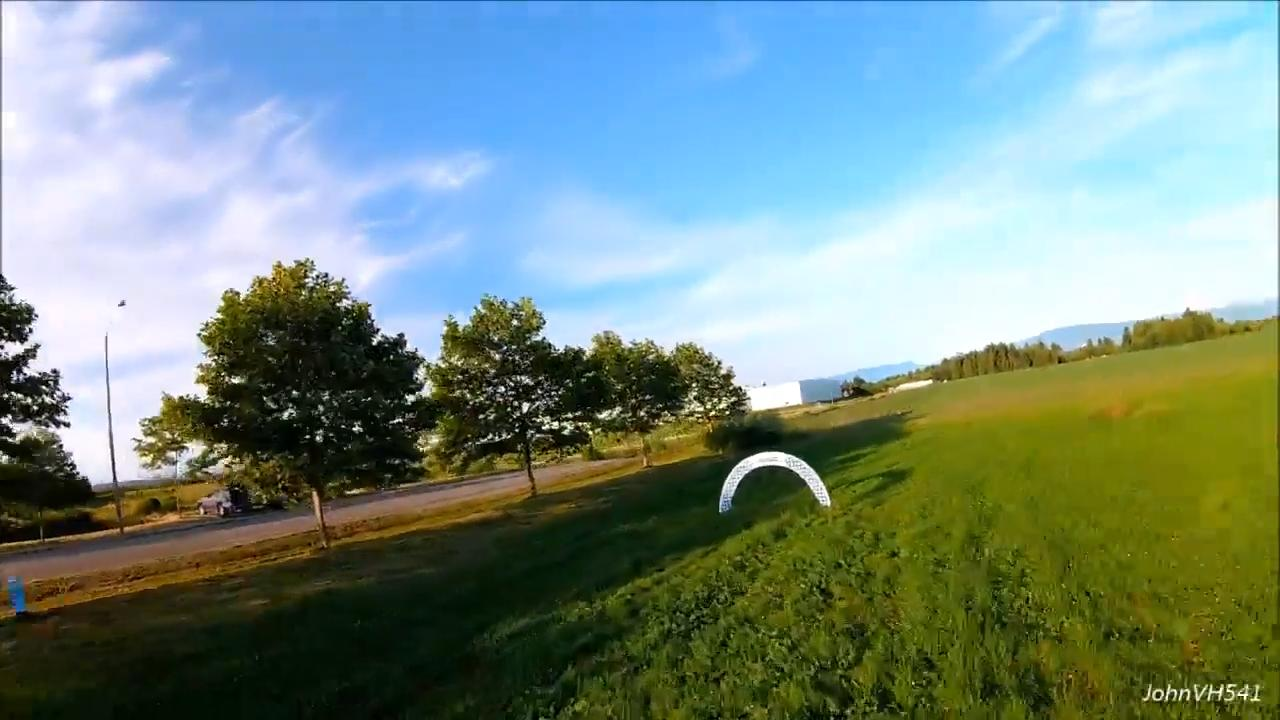gate: (717, 451, 832, 512)
